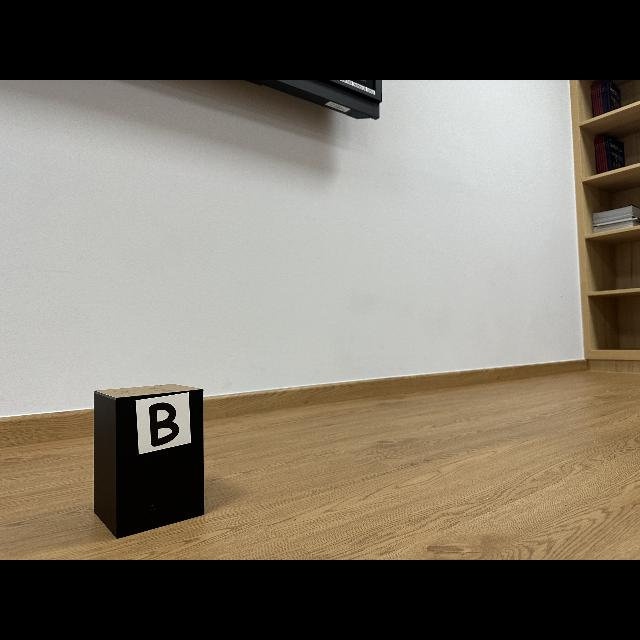B: (149, 402, 180, 446)
